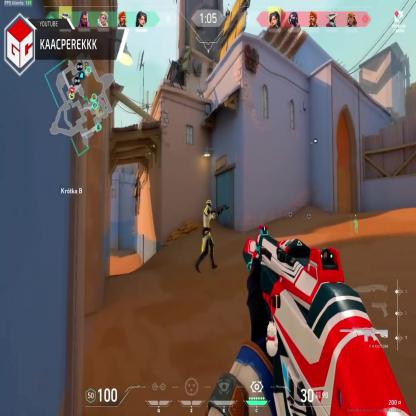enemy: (196, 197, 216, 272)
enemy_head: (206, 199, 212, 209)
